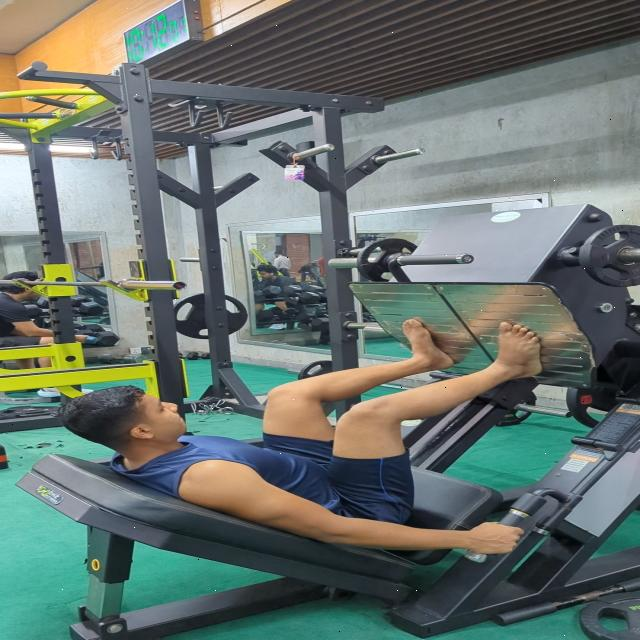Normal_LegPress: (62, 308, 575, 562)
